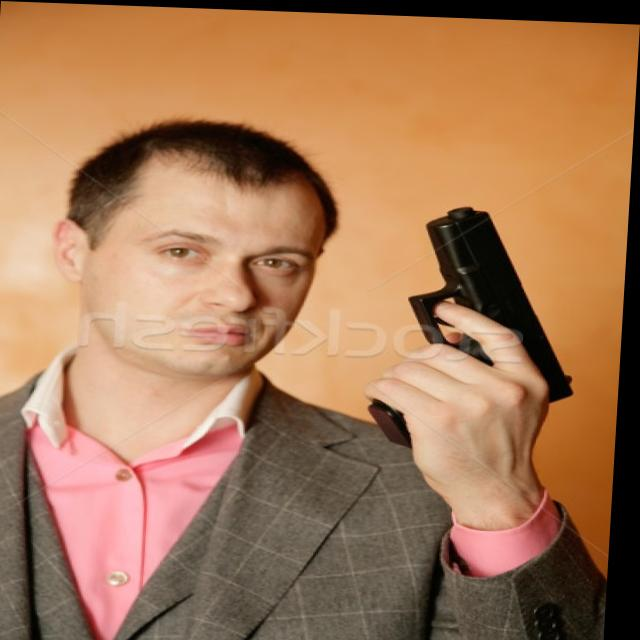handgun: (368, 196, 591, 448)
